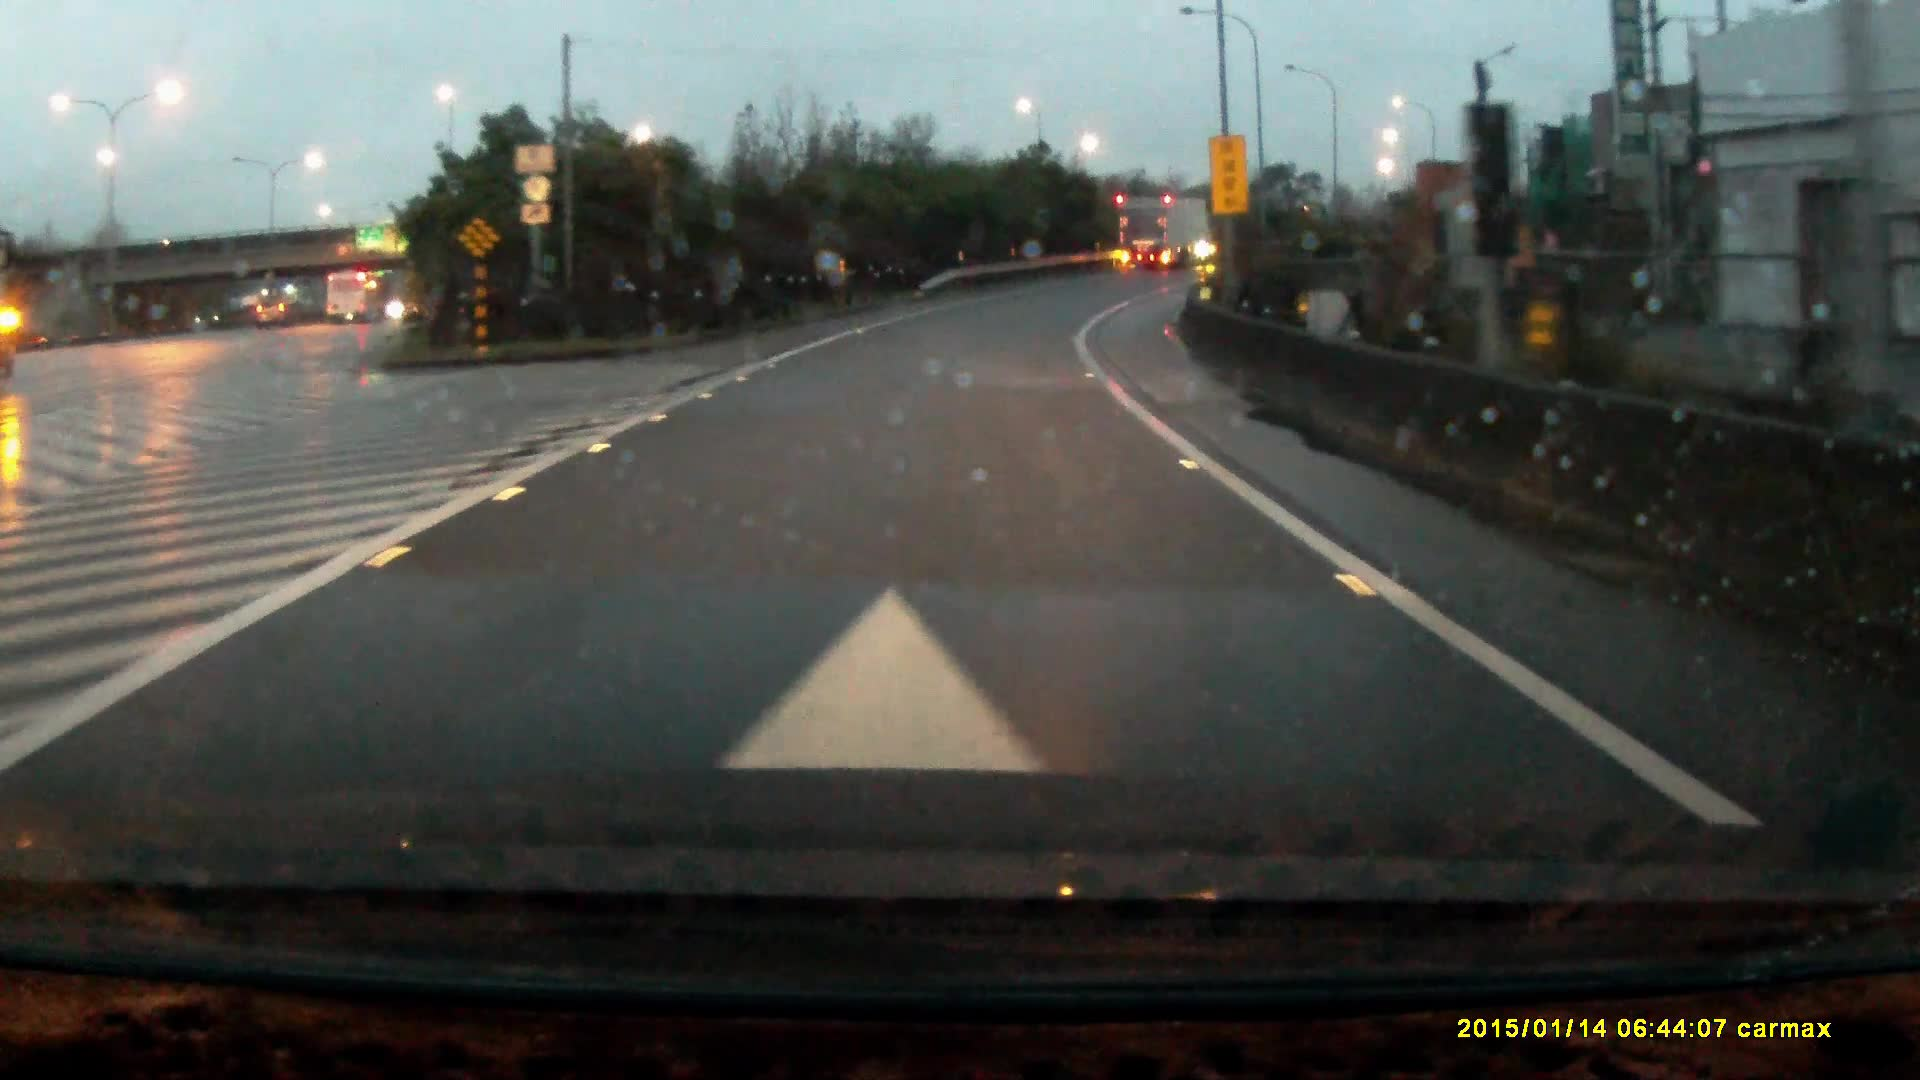vehicle: (1117, 196, 1216, 274), (324, 273, 382, 328), (257, 303, 291, 332)
